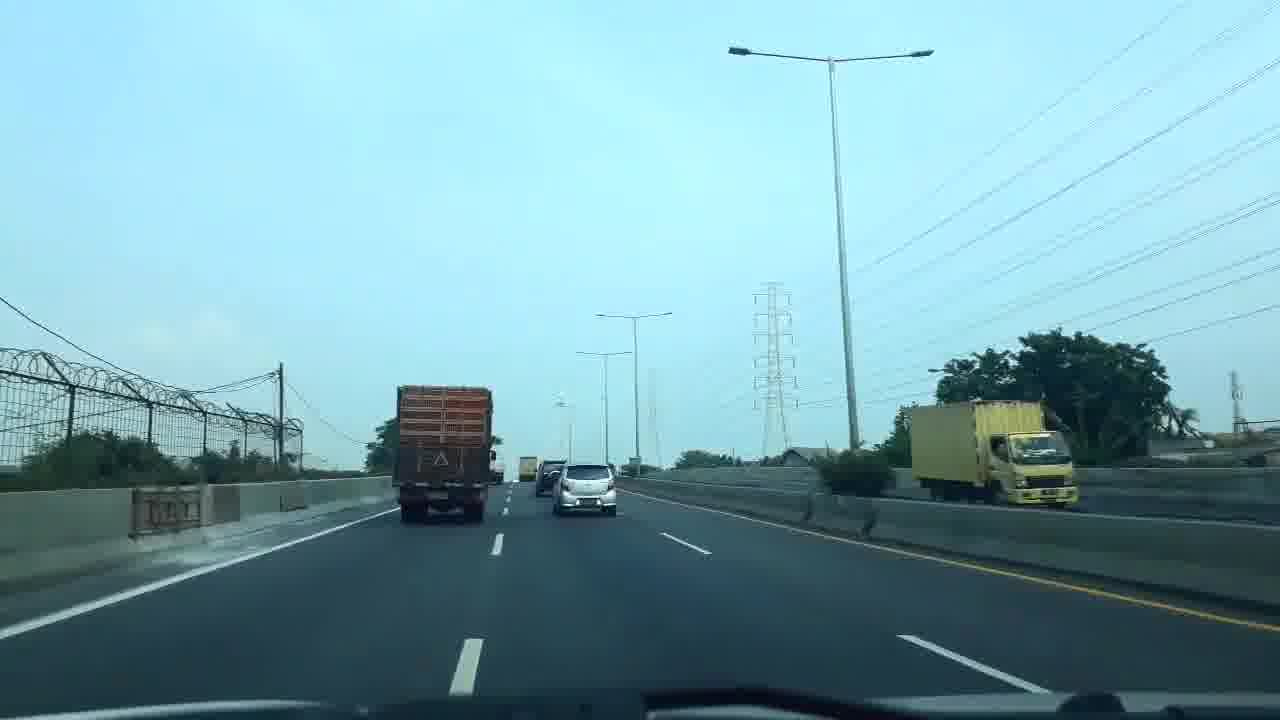plate_positive: (427, 491, 448, 500), (579, 498, 597, 505)
